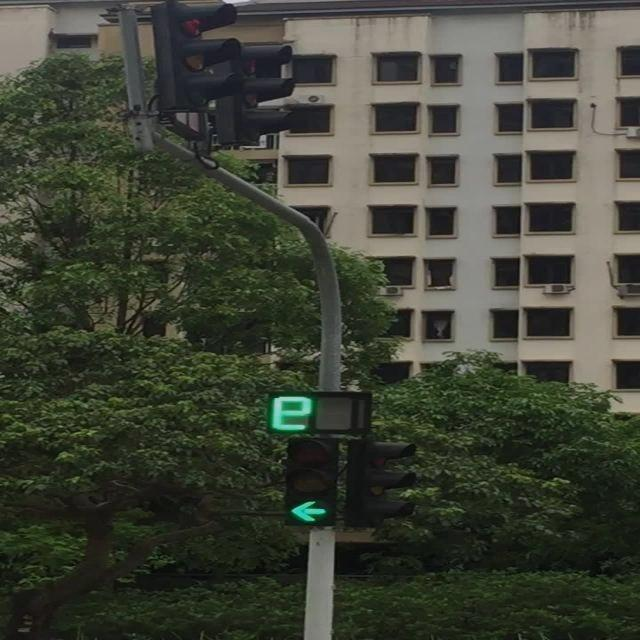Green: (284, 438, 336, 526)
